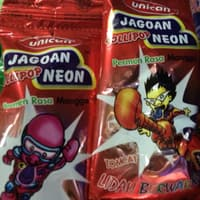jagoan_neon: (89, 1, 200, 199), (1, 15, 108, 200)
